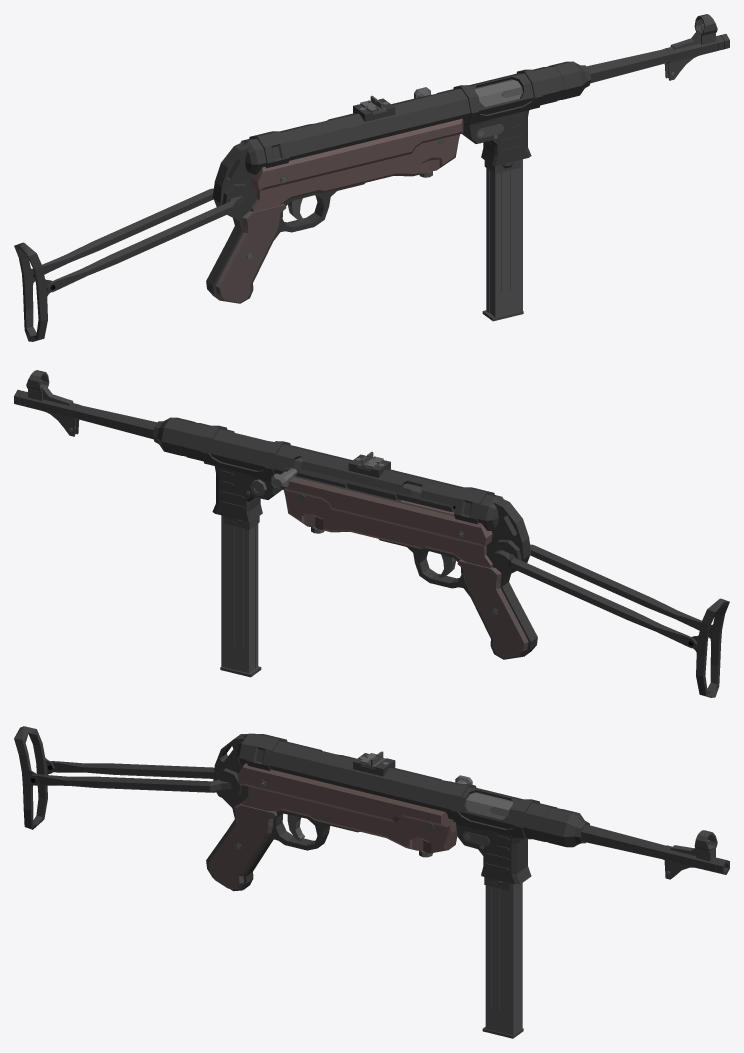
The picture shows the model from 3 angles, top to bottom: view 1: azimuth 30°, elevation 25°; view 2: azimuth 150°, elevation 25°; view 3: azimuth 330°, elevation 25°; orthographic projection.
Visible parts, largest first — view 1: MP40_Base, MP40_Mag, MP40_Rail; view 2: MP40_Base, MP40_Mag, MP40_Rail; view 3: MP40_Base, MP40_Mag, MP40_Rail.
Part boxes in pixels (bbox=[...]): MP40_Base: bbox=[14, 14, 729, 341]; MP40_Mag: bbox=[482, 159, 523, 321]; MP40_Rail: bbox=[414, 79, 522, 106]; MP40_Base: bbox=[14, 370, 729, 697]; MP40_Mag: bbox=[220, 515, 261, 677]; MP40_Rail: bbox=[271, 457, 401, 501]; MP40_Base: bbox=[14, 726, 729, 891]; MP40_Mag: bbox=[482, 877, 523, 1038]; MP40_Rail: bbox=[455, 775, 513, 819].
Size of the model in its own units: 1189 by 400 by 102.
